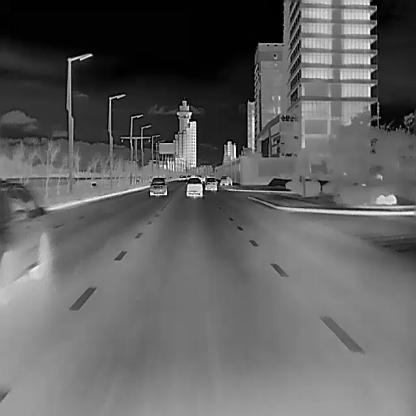car: (0, 178, 51, 290), (148, 176, 167, 197), (185, 176, 202, 196), (204, 177, 217, 190), (219, 175, 232, 185)
